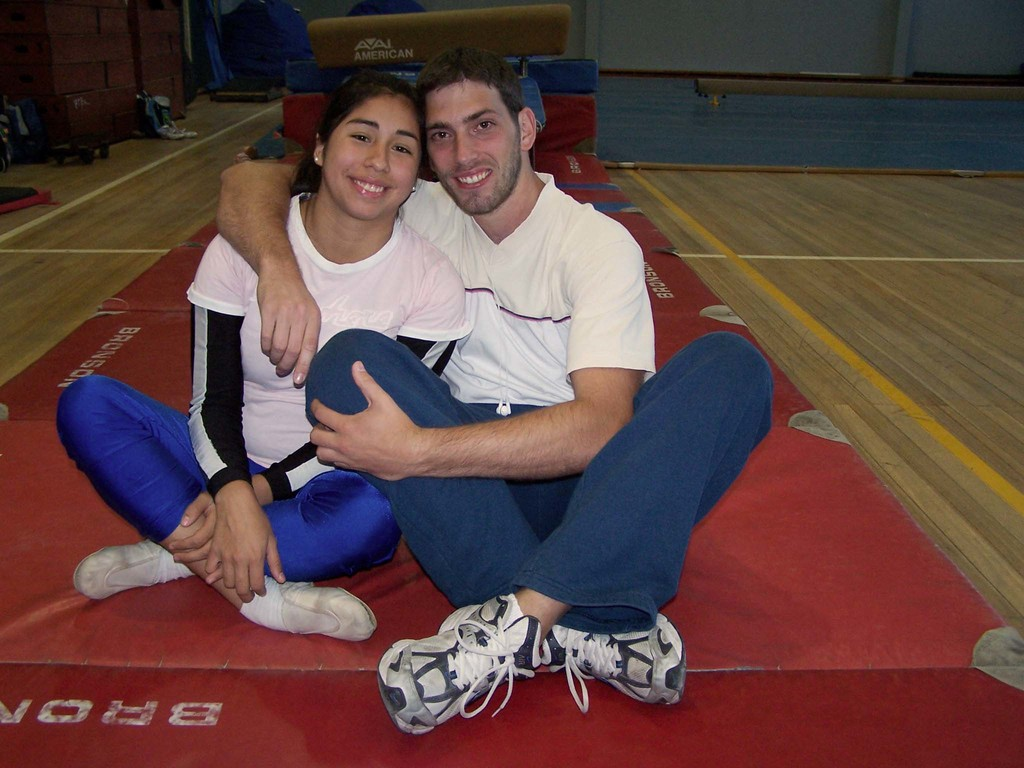Human_hand: (311, 359, 428, 484), (207, 490, 286, 600), (258, 273, 319, 386), (170, 492, 227, 584)
